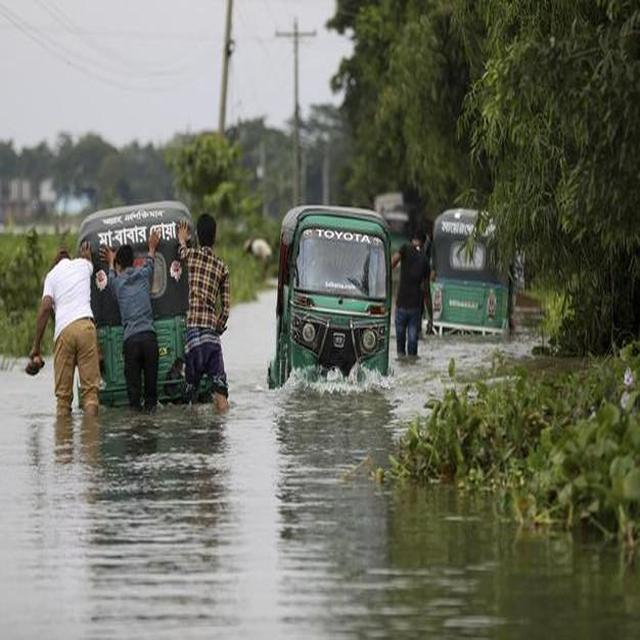Car-RiskLevel2: (269, 203, 392, 386)
Person-RiskLevel2: (173, 211, 250, 416), (29, 244, 106, 413), (100, 230, 164, 419), (381, 214, 433, 368)
